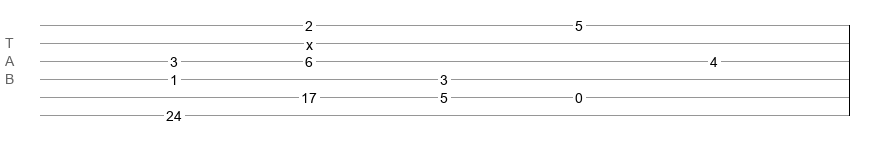0: (575, 90, 583, 100)
1: (170, 72, 178, 82)
17: (301, 90, 317, 100)
2: (305, 18, 313, 28)
24: (166, 108, 182, 118)
3: (170, 54, 178, 64), (440, 72, 448, 82)
4: (710, 54, 718, 64)
5: (440, 90, 448, 100), (575, 18, 583, 28)
6: (305, 54, 313, 64)
x: (306, 37, 313, 45)
